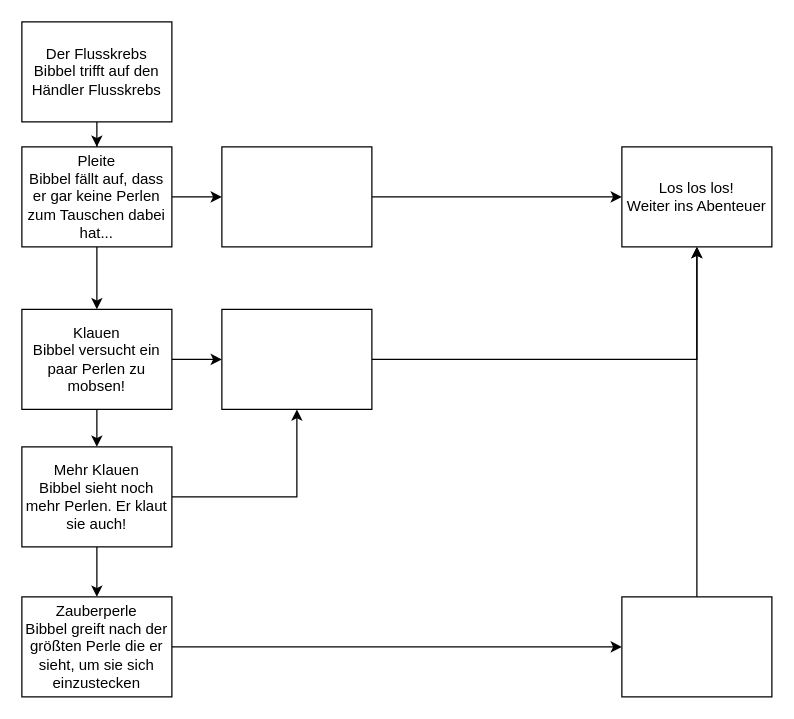
This 794x719 diagram has some shape labels left out. Here are the shapes that lost their labels. From the top down, the centre of each, then its label:
[296,196]: Aufgeben Bibbel ist sehr traurig und geht einfach weg
[296,358]: Flucht Schnell weg, bevor er was bemerkt
[696,646]: Erwischt! Der Flusskrebs hat den Diebstahl gesehen und schlägt Bibbel
